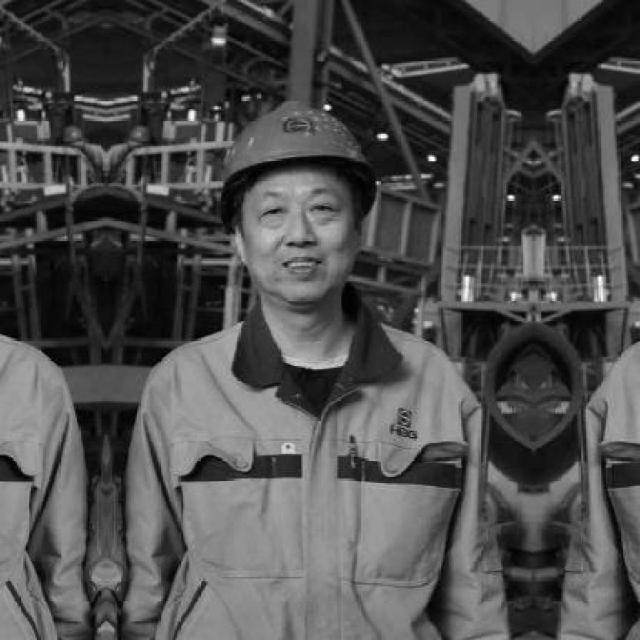hat: (200, 88, 389, 322)
